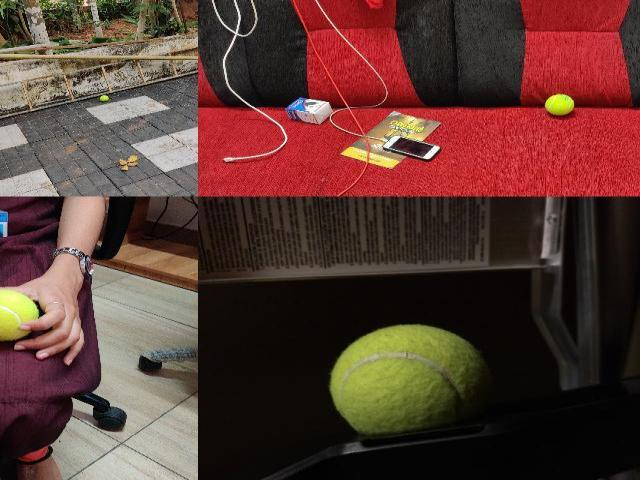tennis-ball: (326, 324, 484, 433), (0, 290, 39, 340), (544, 94, 574, 114), (100, 94, 108, 102)
